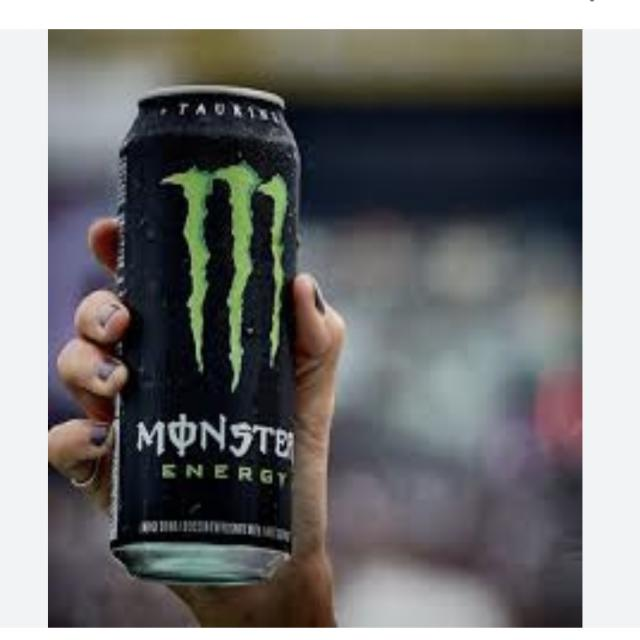recyclable: (80, 60, 330, 605)
